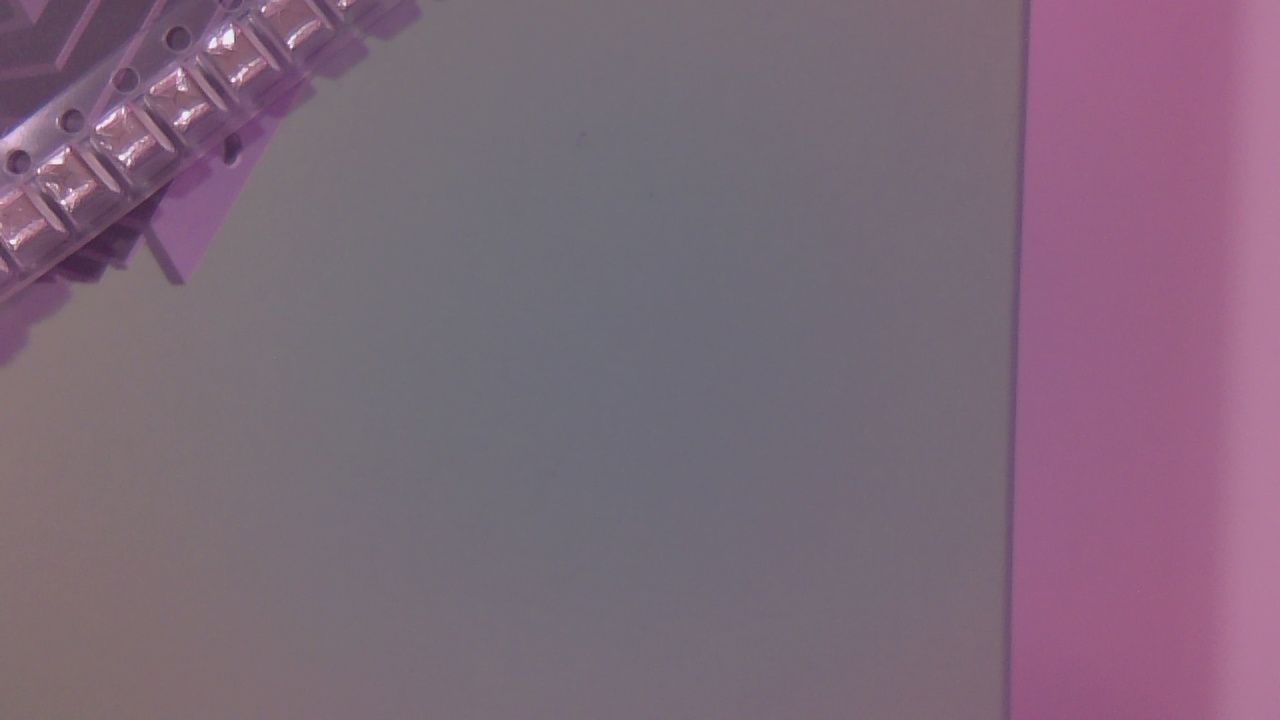Condensator: (209, 38, 282, 98), (149, 70, 218, 133), (99, 109, 165, 174), (38, 154, 106, 210), (263, 4, 330, 49), (6, 197, 52, 253)
